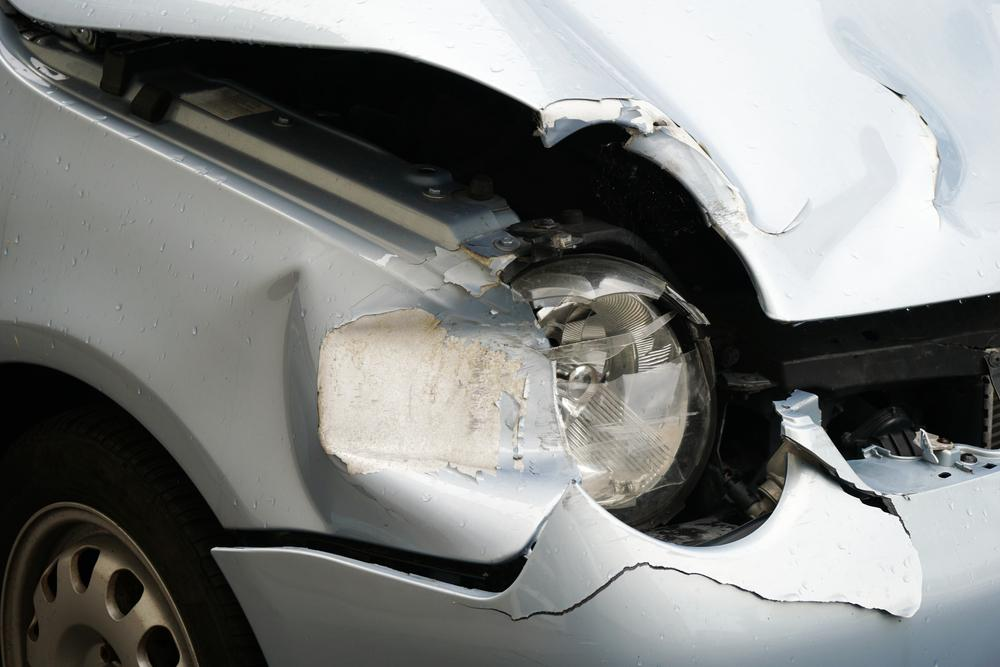crack: (451, 434, 926, 623)
dent: (199, 265, 571, 528), (732, 4, 967, 323)
lamp broken: (510, 246, 724, 523)
